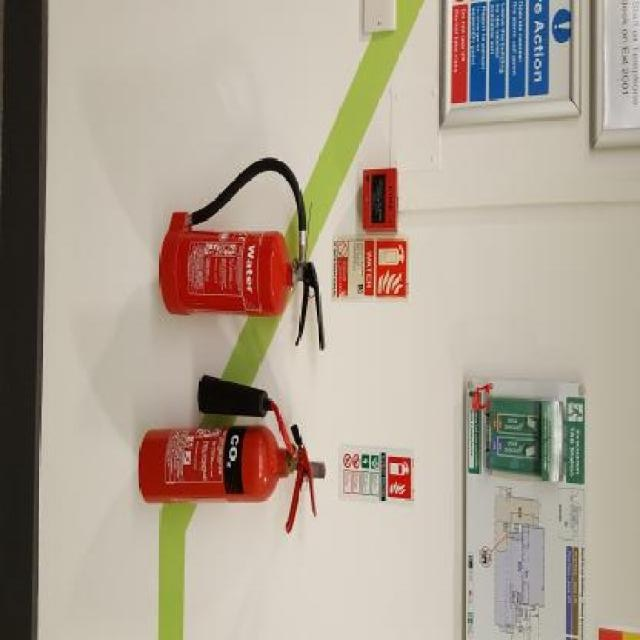fire extinguisher: (161, 157, 325, 351), (138, 376, 317, 532)
